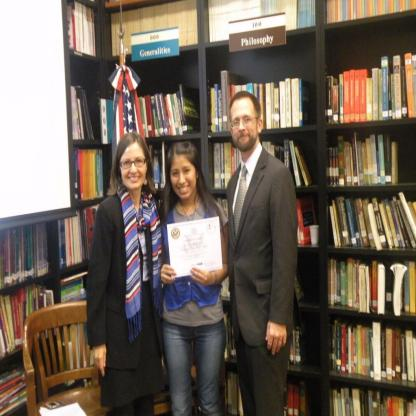book: (0, 196, 104, 289), (1, 266, 90, 356), (326, 54, 416, 120), (334, 322, 415, 385), (329, 260, 416, 316), (327, 191, 416, 245), (108, 0, 198, 52), (210, 0, 315, 43), (230, 75, 318, 125), (327, 131, 400, 185), (135, 85, 201, 132), (260, 140, 314, 188), (321, 0, 416, 25), (333, 388, 416, 416), (72, 147, 104, 205), (68, 0, 98, 58), (220, 70, 248, 130), (210, 143, 242, 190), (0, 367, 29, 416), (71, 86, 95, 144), (286, 318, 309, 366), (299, 195, 319, 245), (281, 380, 307, 416), (153, 142, 171, 191), (223, 373, 243, 416), (225, 303, 237, 362), (209, 82, 222, 134), (294, 269, 306, 301), (221, 272, 234, 297), (222, 199, 227, 218), (218, 196, 222, 206)
